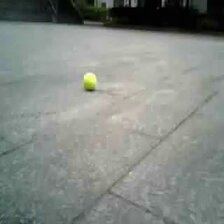tennis: (83, 73, 97, 89)
